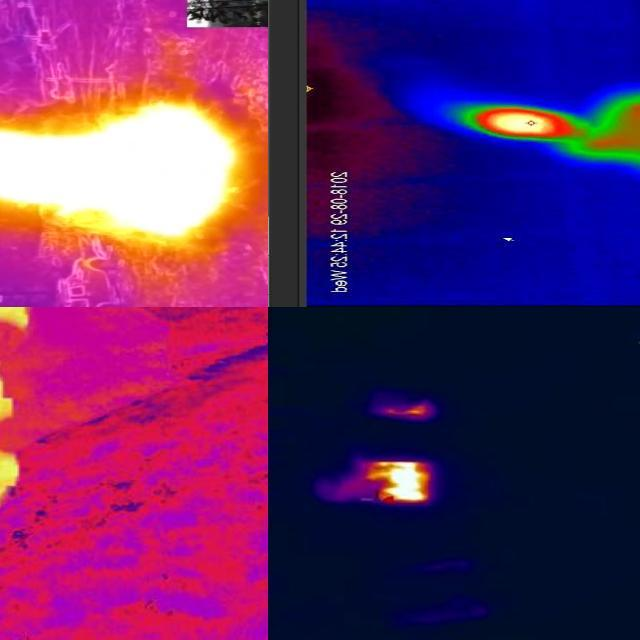fire: (1, 101, 240, 242), (2, 309, 32, 498), (458, 106, 586, 140), (345, 459, 439, 504), (379, 402, 437, 420)
